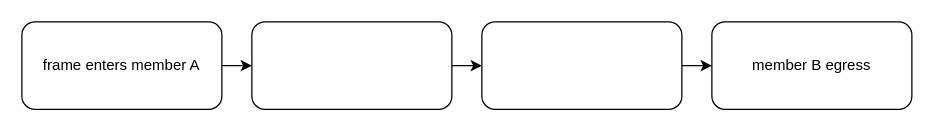
This 934x131 diagram has some shape labels left out. Each missing label, with the centre of its shape:
"VWP pair constraint" goes at (351,65).
"VWP policy/inspection" goes at (581,65).
